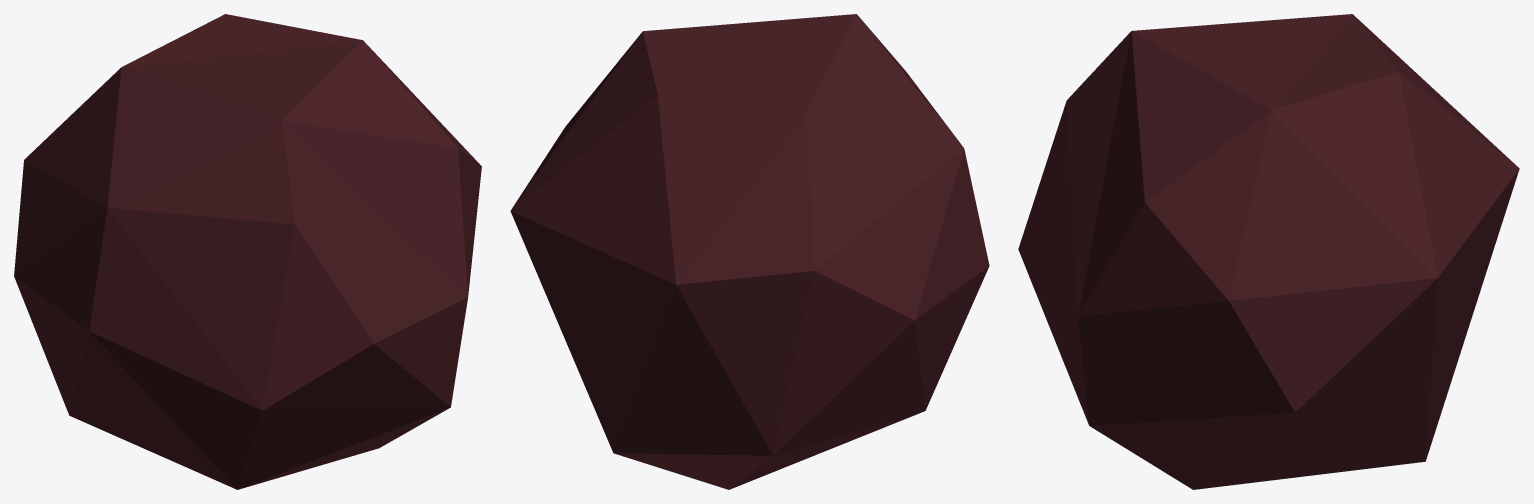
File: Asteroid Model.fbx
The picture shows the model from 3 angles, left to right: view 1: azimuth 30°, elevation 25°; view 2: azimuth 150°, elevation 25°; view 3: azimuth 270°, elevation 25°; orthographic projection. The views are drawn at different scales.
Visible parts, largest first — view 1: Asteroid; view 2: Asteroid; view 3: Asteroid.
Boxes of the visible parts, x1,y1,x2,y2 form: Asteroid: (14,14,481,489); Asteroid: (510,14,989,489); Asteroid: (1018,14,1519,489).
Size of the model in its own units: 195 by 186 by 198.
